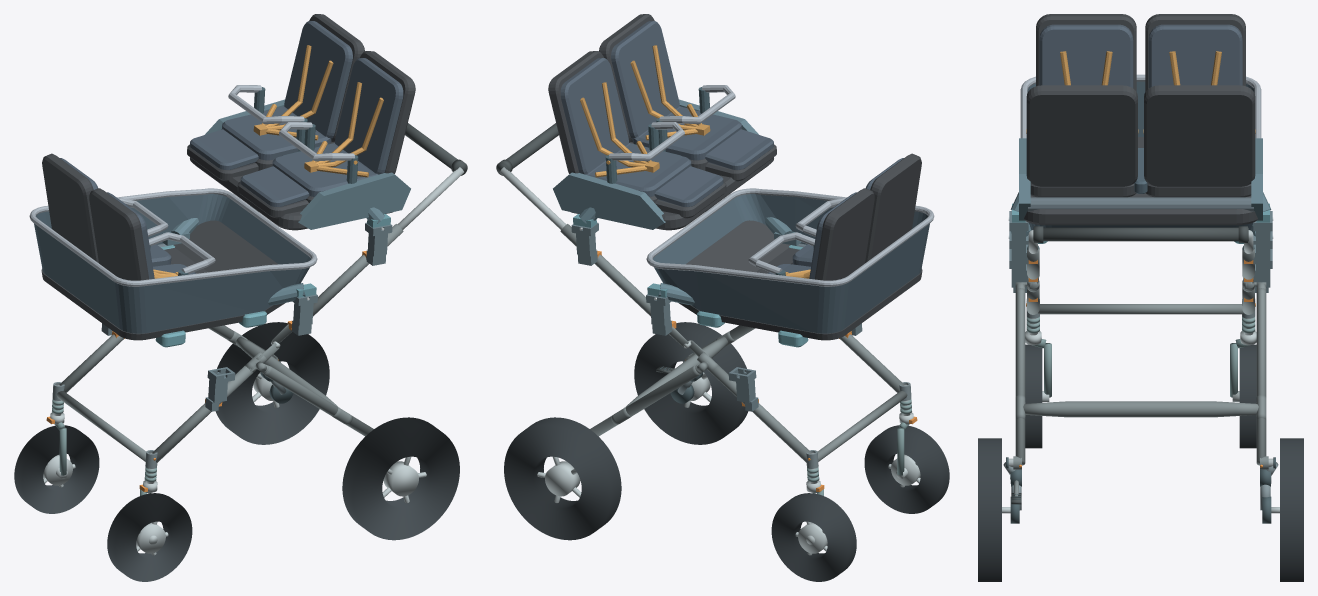
File: D33_w650_state1_wheel_L.glb
The picture shows the model from 3 angles, left to right: view 1: azimuth 30°, elevation 25°; view 2: azimuth 150°, elevation 25°; view 3: azimuth 270°, elevation 25°; orthographic projection. The views are drawn at different scales.
Parts seen in each view (by area): view 1: D33_Lower, D33_Upper, RL_tire.008, RR_tire.008, FL_tire.008, FR_tire.008, V46_rear_leg_-1.009, main_lower_-1.009, D33_Lower_Mount_M, front_fixed_round_tube.008, main_upper_-1.009, RL_sealed_hub.008 (+8 smaller); view 2: D33_Lower, D33_Upper, RR_tire.008, RL_tire.008, FR_tire.008, FL_tire.008, V46_rear_leg_1.009, main_lower_1.009, D33_Lower_Mount_M, front_fixed_round_tube.008, main_upper_1.009, RR_sealed_hub.008 (+8 smaller); view 3: D33_Upper, D33_Lower, V46_rearbar.009, RL_tire.008, RR_tire.008, round_handle.008, front_fixed_round_tube.008, FL_tire.008, FR_tire.008, V46_rear_leg_1.009, V46_rear_leg_-1.009, Universal_Cabin_Receiver_H_1 (+1 smaller).
Part boxes in pixels (x1,y1,x2,y2): D33_Lower: (29, 153, 317, 347); D33_Upper: (187, 14, 415, 230); RL_tire.008: (342, 417, 459, 540); RR_tire.008: (215, 322, 329, 444); FL_tire.008: (107, 493, 192, 581); FR_tire.008: (14, 425, 99, 513); V46_rear_leg_-1.009: (263, 365, 373, 436); main_lower_-1.009: (152, 366, 255, 462); D33_Lower_Mount_M: (162, 218, 316, 305); front_fixed_round_tube.008: (56, 391, 146, 461); main_upper_-1.009: (292, 224, 403, 321); RL_sealed_hub.008: (383, 461, 418, 496); D33_Lower: (646, 153, 934, 347); D33_Upper: (548, 14, 776, 230); RR_tire.008: (504, 417, 621, 540); RL_tire.008: (634, 322, 748, 444); FR_tire.008: (771, 493, 856, 581); FL_tire.008: (864, 425, 949, 513); V46_rear_leg_1.009: (590, 365, 700, 436); main_lower_1.009: (708, 366, 811, 462); D33_Lower_Mount_M: (647, 217, 801, 305); front_fixed_round_tube.008: (817, 391, 907, 461); main_upper_1.009: (560, 224, 671, 321); RR_sealed_hub.008: (545, 461, 580, 496); D33_Upper: (1019, 85, 1262, 225); D33_Lower: (1020, 14, 1261, 243); V46_rearbar.009: (1023, 401, 1258, 417); RL_tire.008: (978, 438, 1001, 581); RR_tire.008: (1280, 438, 1303, 581); round_handle.008: (1033, 227, 1248, 241); front_fixed_round_tube.008: (1038, 304, 1243, 314); FL_tire.008: (1025, 344, 1042, 448); FR_tire.008: (1239, 344, 1256, 448); V46_rear_leg_1.009: (1256, 288, 1266, 465); V46_rear_leg_-1.009: (1015, 288, 1025, 465); Universal_Cabin_Receiver_H_1: (1253, 211, 1272, 264).
Bounding box in the file's own units: 1.2 × 1.39 × 0.8171.
